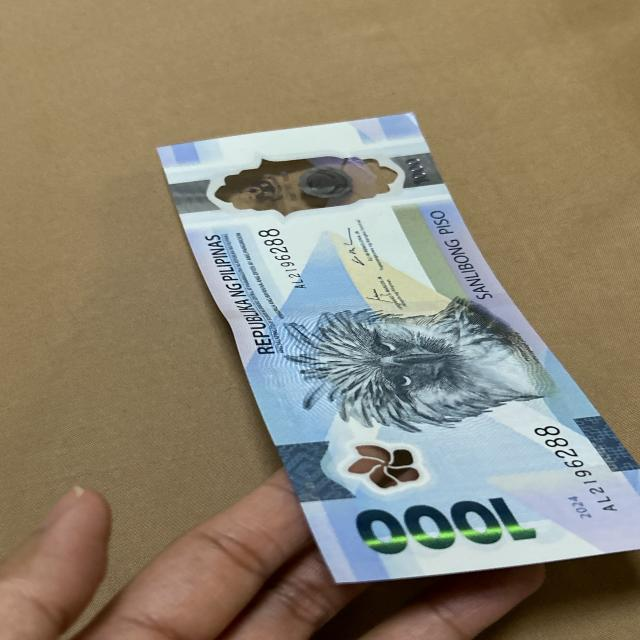clear_window: (173, 154, 441, 209)
eagle: (281, 313, 563, 422)
sampaguita: (344, 440, 428, 496)
serial_number: (522, 415, 625, 527), (252, 216, 318, 298)
